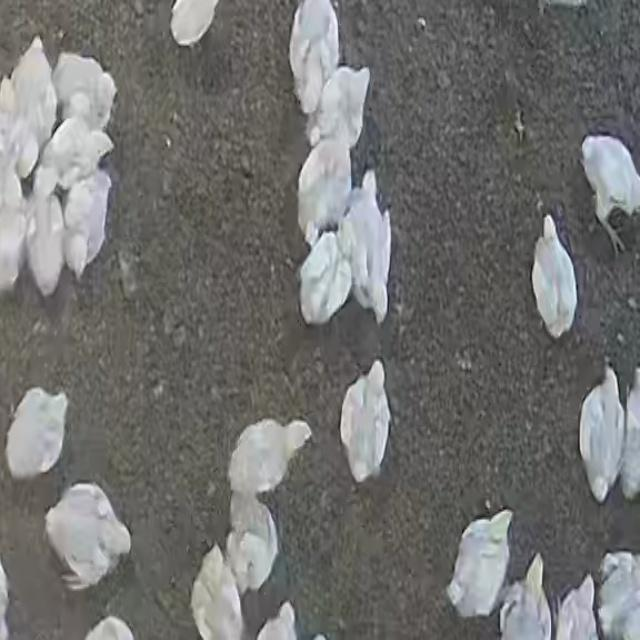chicken: (45, 482, 133, 590), (340, 165, 392, 322), (446, 509, 516, 620), (5, 38, 58, 179), (579, 135, 640, 254), (284, 0, 346, 111), (226, 419, 312, 497), (61, 160, 116, 278), (340, 362, 392, 482), (579, 365, 625, 500), (5, 388, 68, 481), (224, 494, 282, 594), (42, 115, 116, 193), (302, 130, 351, 244), (51, 51, 119, 133), (190, 544, 248, 638), (300, 226, 352, 329), (537, 211, 578, 340), (308, 65, 369, 151), (26, 174, 68, 298), (498, 554, 552, 638), (0, 157, 29, 294), (596, 552, 640, 639), (553, 570, 599, 640), (169, 1, 223, 46)
